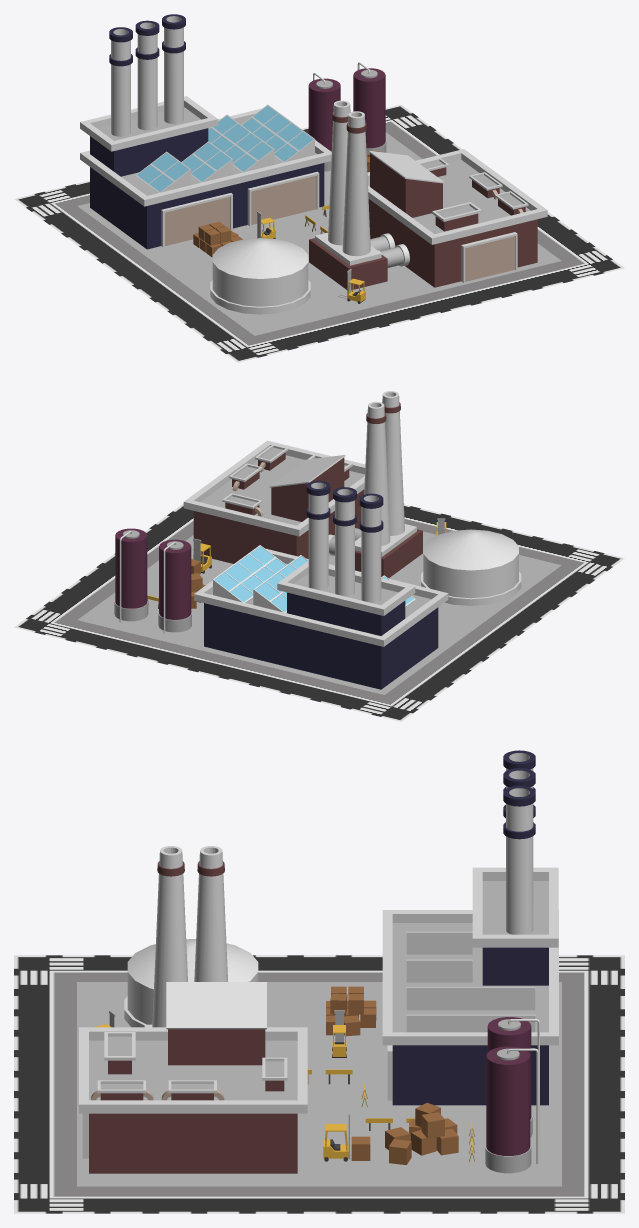
The model's file is Factory_BO.fbx.
The picture shows the model from 3 angles, top to bottom: view 1: azimuth 30°, elevation 25°; view 2: azimuth 150°, elevation 25°; view 3: azimuth 270°, elevation 25°; orthographic projection. The views are drawn at different scales.
Visible parts, largest first — view 1: Box2207, Box2342, Box2243, Box2208, Cylinder089, Box002, Box2244, Cone002, Box2213, Box2255, Box2214, Cylinder085 (+16 smaller); view 2: Box2207, Box2208, Box2243, Box2342, Cylinder089, Box002, Cylinder092, Cylinder141, Box2244, Cone294, Cylinder084, Cylinder086 (+9 smaller); view 3: Box2207, Box2342, Box2243, Box2208, Box2244, Box002, Cylinder092, Cone002, Cylinder086, Cone294, Cylinder089, Box2210 (+9 smaller).
Boxes of the visible parts, x1,y1,x2,y2 form: Box2207: (14,104,624,362); Box2342: (77,132,561,335); Box2243: (367,149,547,287); Box2208: (80,108,331,249); Cylinder089: (210,238,310,314); Box002: (80,96,218,176); Box2244: (368,150,444,217); Cone002: (342,111,370,256); Box2213: (247,171,319,226); Box2255: (309,232,387,290); Box2214: (161,193,232,247); Cylinder085: (135,20,159,130); Box2207: (14,503,624,721); Box2208: (194,548,448,689); Box2243: (183,440,365,563); Box2342: (77,531,561,695); Cylinder089: (421,529,521,605); Box002: (277,560,415,635); Cylinder092: (114,528,148,621); Cylinder141: (158,539,191,632); Box2244: (269,455,345,521); Cone294: (364,401,390,545); Cylinder084: (359,493,383,603); Cylinder086: (306,480,330,590); Box2207: (14,955,624,1213); Box2342: (77,982,561,1186); Box2243: (79,1027,307,1173); Box2208: (382,910,558,1105); Box2244: (166,982,266,1065); Box002: (472,867,558,985); Cylinder092: (485,1046,531,1173); Cone002: (152,846,187,1027); Cylinder086: (503,785,535,934); Cone294: (194,846,227,981); Cylinder089: (124,939,258,1027); Box2210: (406,988,535,1010).
Size of the model in its own units: 1000 by 450 by 1000.
